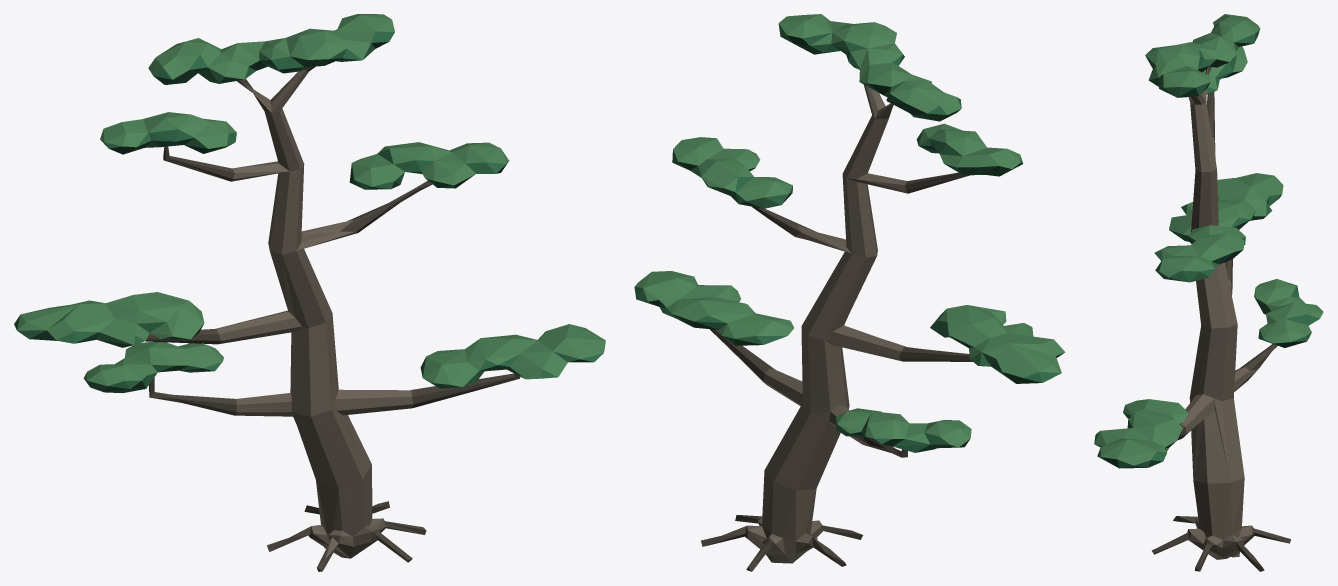
File: ancient-pine-2153-lod2.glb
3 renders of one model, left to right at view 1: azimuth 30°, elevation 25°; view 2: azimuth 150°, elevation 25°; view 3: azimuth 270°, elevation 25°, orthographic. The views are drawn at different scales.
Parts seen in each view (by area): view 1: n12.006, n8.006, n9.006, n11.006, n10.006; view 2: n12.006, n8.006, n9.006, n11.006, n10.006; view 3: n12.006, n8.006, n11.006, n9.006, n10.006.
Boxes of the visible parts, x1,y1,x2,y2 form: n12.006: (17,14,605,387); n8.006: (217,70,413,558); n9.006: (145,66,520,571); n11.006: (14,31,603,391); n10.006: (29,42,604,393); n12.006: (634,14,1064,447); n8.006: (747,70,907,563); n9.006: (701,104,972,571); n11.006: (634,24,1061,452); n10.006: (637,35,1063,452); n12.006: (1094,14,1323,465); n8.006: (1180,67,1258,559); n11.006: (1094,23,1319,468); n9.006: (1151,66,1290,571); n10.006: (1095,24,1310,468).
Size of the model in its own units: 5.28 by 5.42 by 2.33.
